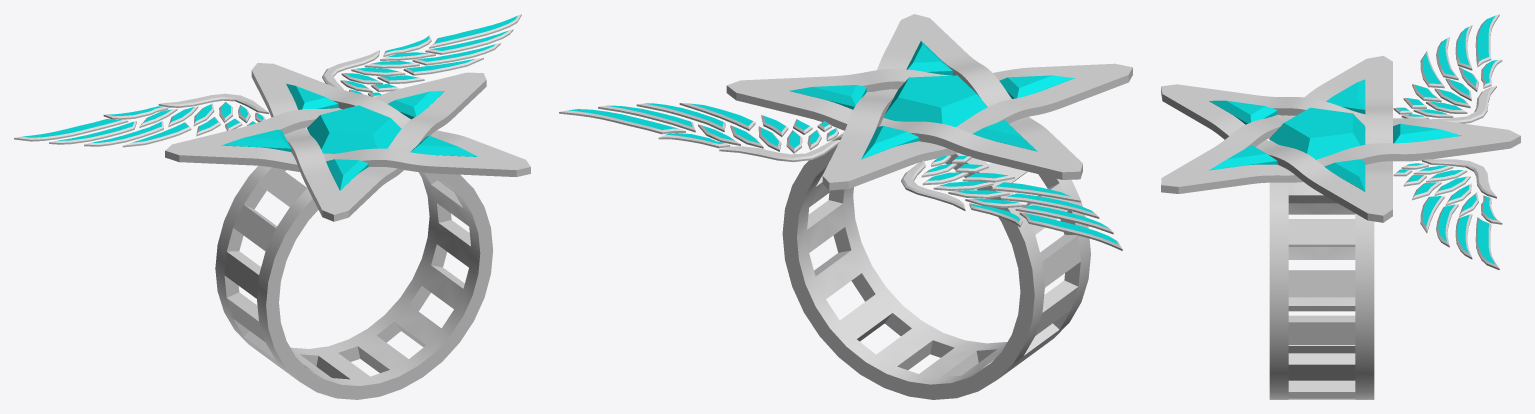
The model's file is star_ring.fbx.
3 views of the same model, side by side, from view 1: azimuth 30°, elevation 25°; view 2: azimuth 150°, elevation 25°; view 3: azimuth 270°, elevation 25° (orthographic). The views are drawn at different scales.
Parts seen in each view (by area): view 1: Starwinged Ring; view 2: Starwinged Ring; view 3: Starwinged Ring.
Boxes of the visible parts, left/top/right/bottom form: Starwinged Ring: left=14, top=14, right=530, bottom=399; Starwinged Ring: left=559, top=14, right=1132, bottom=399; Starwinged Ring: left=1161, top=14, right=1520, bottom=399.
Bounding box in the file's own units: 4.47 × 2.16 × 2.67.
